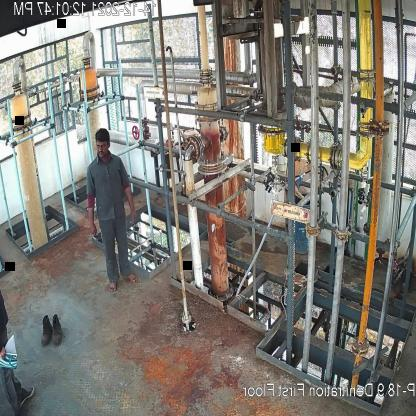no_shoes: (122, 273, 140, 283), (108, 281, 120, 294)
shoes: (48, 313, 63, 346), (39, 315, 52, 345)
